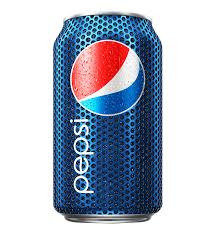pepsi: (52, 13, 163, 221)
